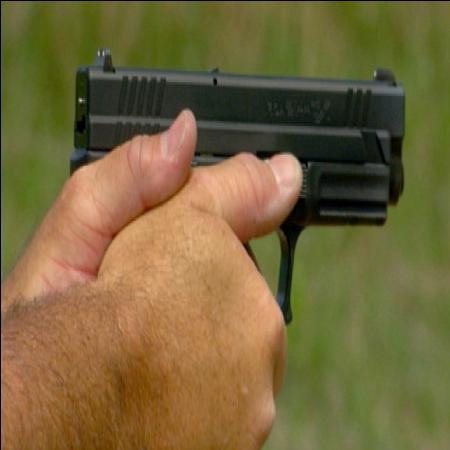Pistol: (66, 33, 409, 358)
